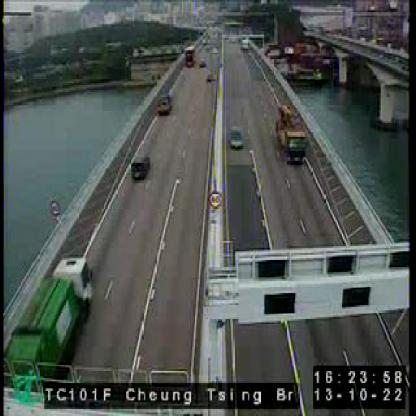Bus: (184, 45, 197, 66)
Car: (130, 155, 149, 180), (158, 92, 173, 115), (230, 125, 244, 149)
Truck: (8, 256, 96, 374), (274, 102, 308, 166)
